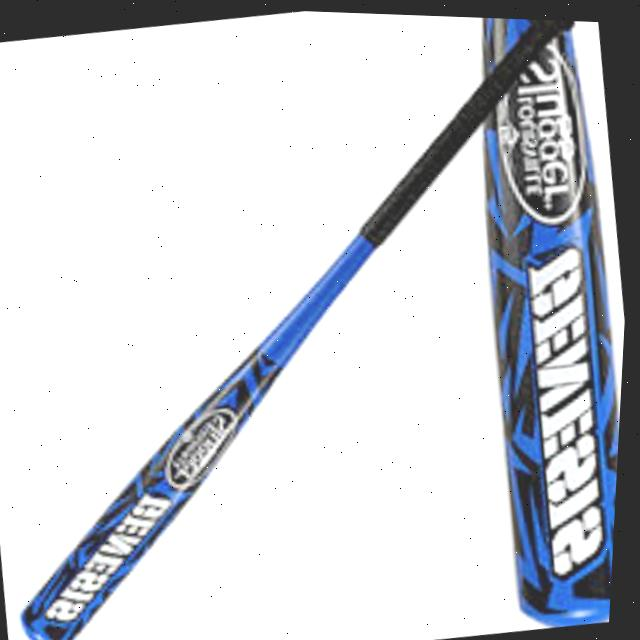baseball bat: (27, 15, 575, 640), (483, 14, 622, 622)
